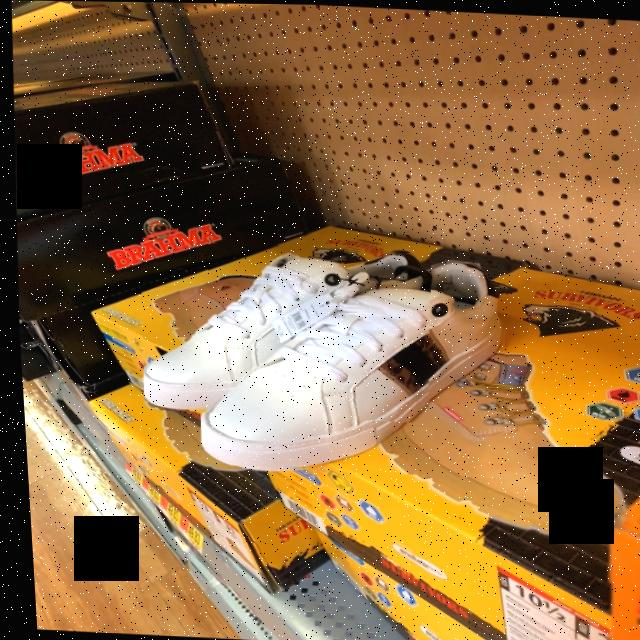shoe: (195, 258, 502, 468), (138, 249, 427, 411)
